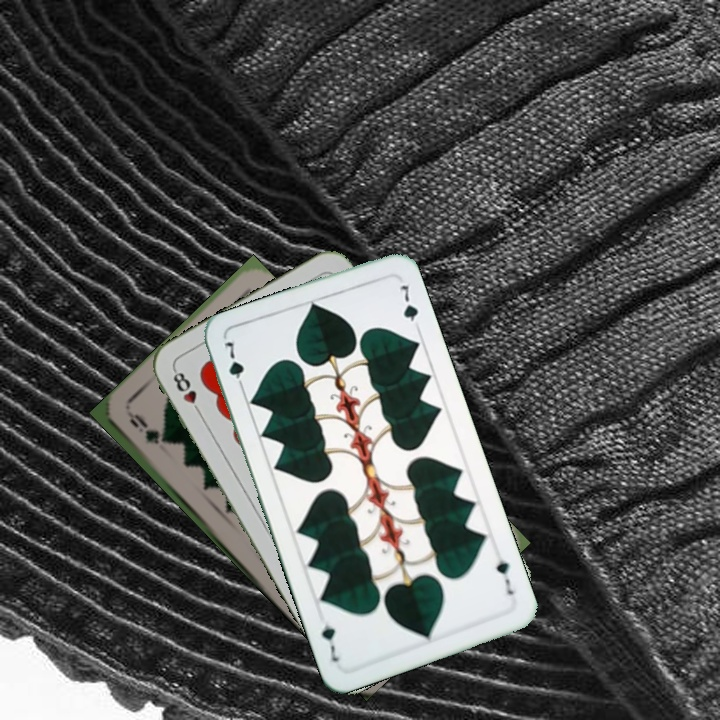G7: (220, 337, 247, 394), (491, 555, 517, 598)
G9: (124, 409, 162, 447)
H8: (168, 365, 206, 419)
